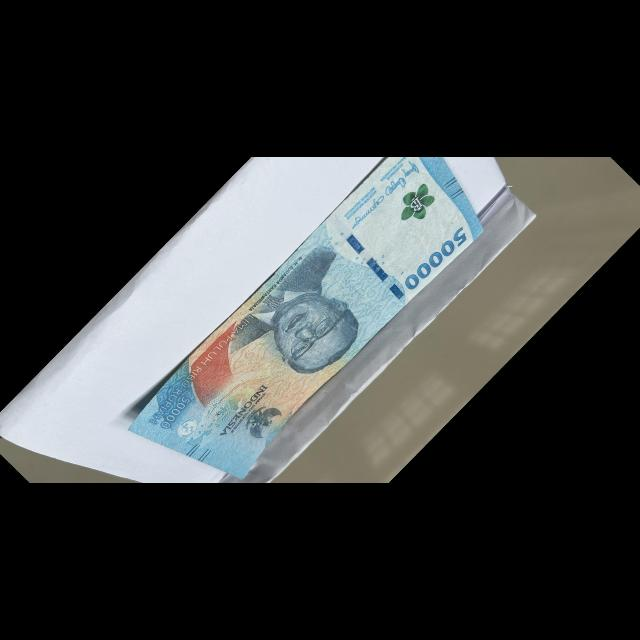Palsu-50k: (121, 151, 497, 519)
Tinta-Palsu-50k: (389, 178, 443, 231)
